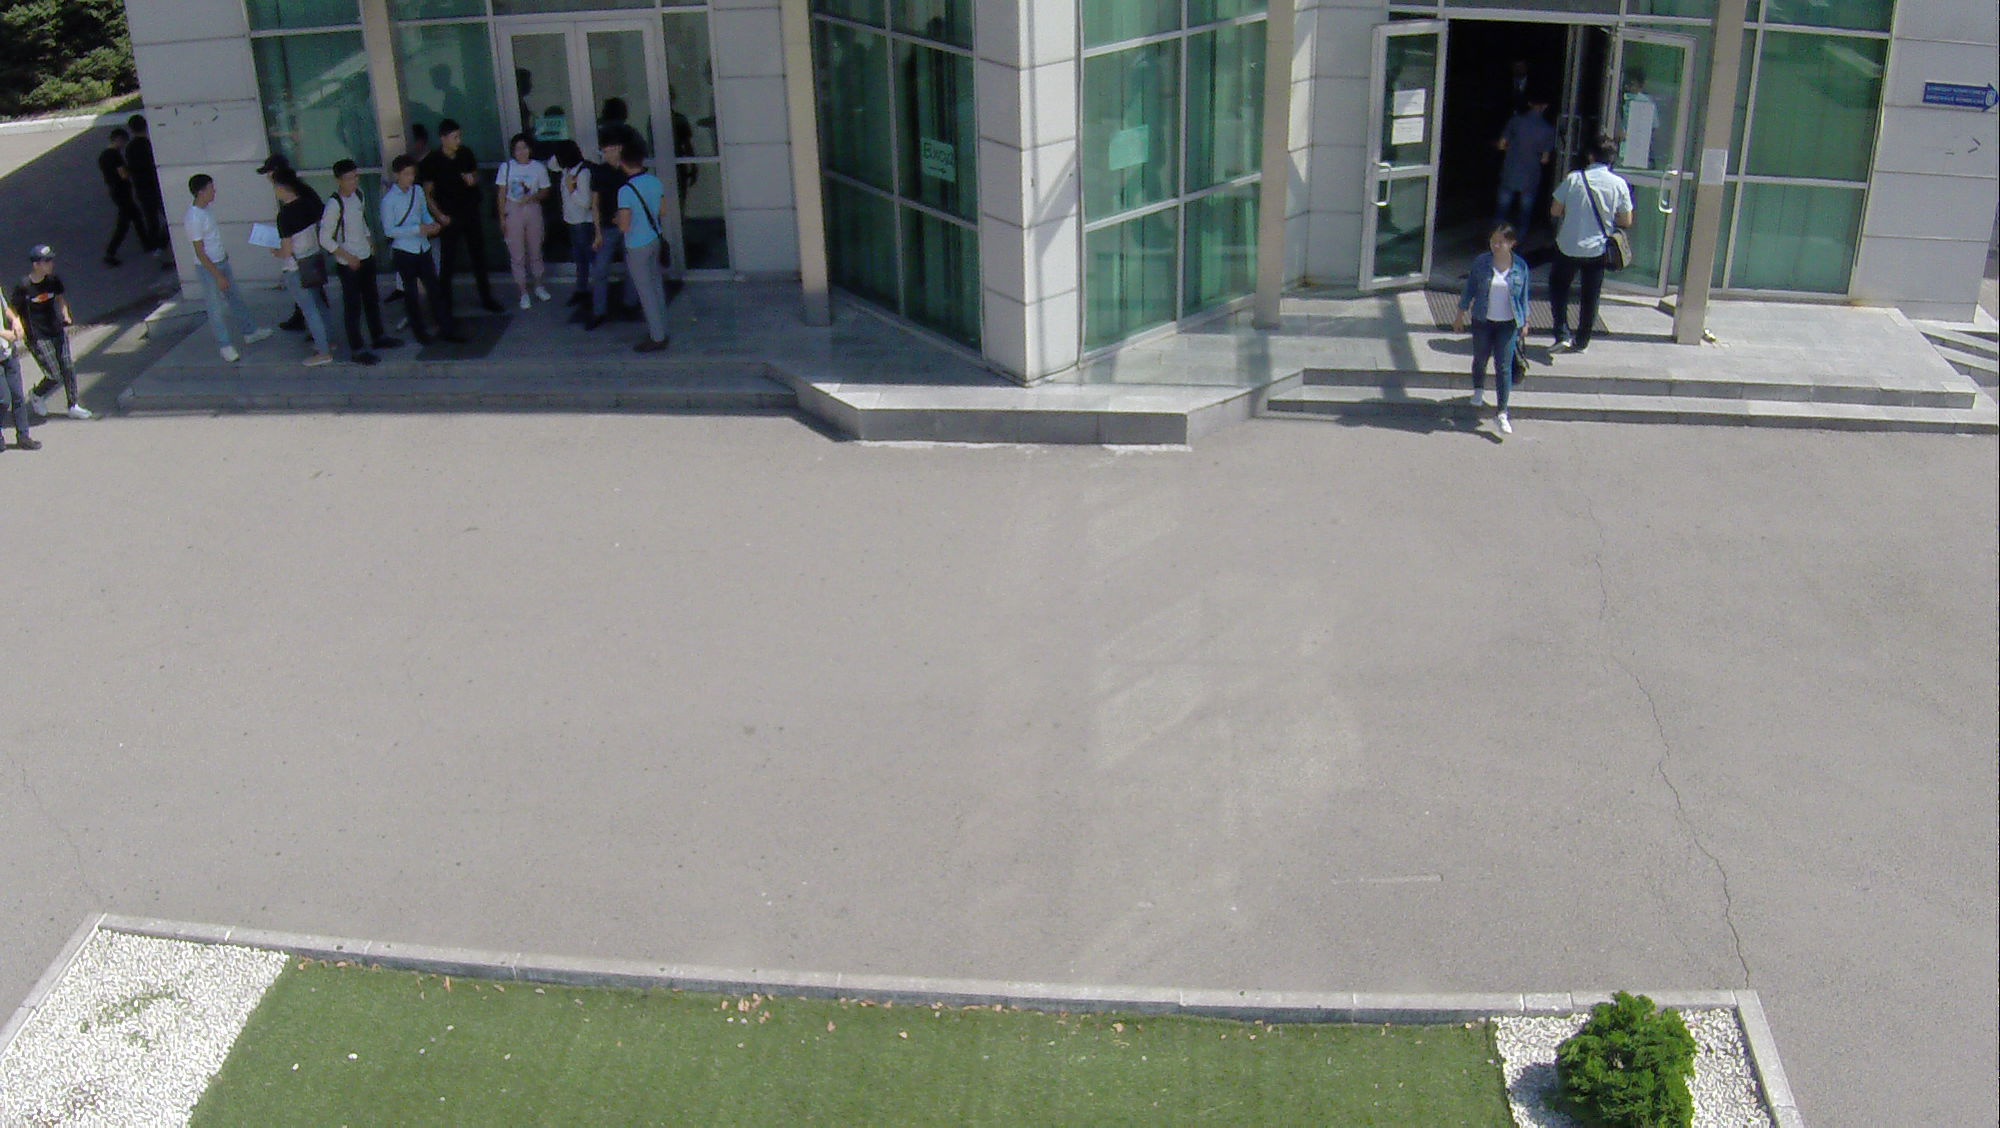person: (1538, 137, 1643, 359), (181, 166, 266, 377), (605, 137, 686, 353), (13, 233, 96, 426), (1460, 216, 1531, 440), (268, 165, 341, 378), (328, 149, 397, 372), (429, 106, 498, 319), (380, 154, 453, 349), (544, 133, 602, 325), (498, 127, 555, 317), (586, 130, 628, 343), (1490, 87, 1545, 228), (125, 108, 173, 262), (88, 122, 138, 271)
